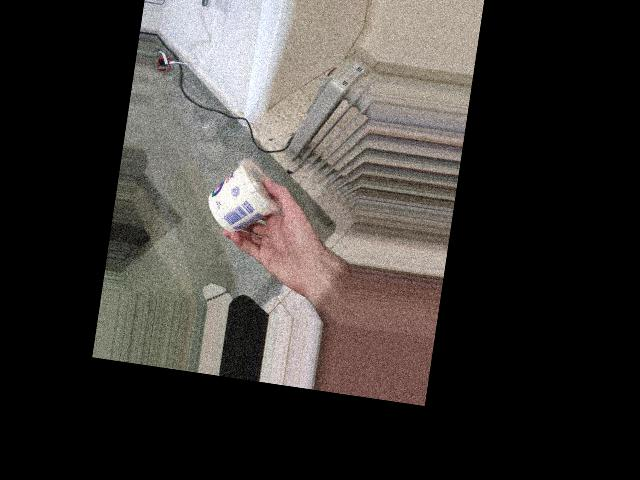cotage: (202, 151, 288, 243)
